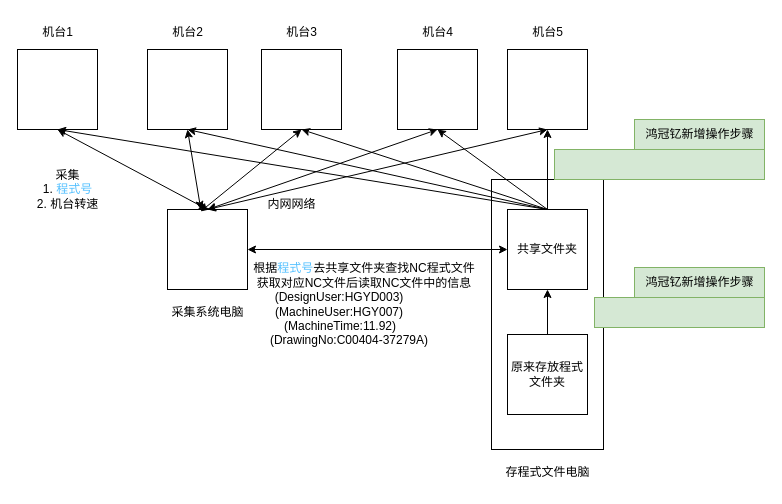
The diagram is 782 pixels wide and 504 high, and some of its shapes have lost their labels. Here are the shapes that lost their labels. From the top down, the centre of each, then its label:
At point 659,164: "机台FTP从共享文件夹获取NC文件".
At point 679,312: "拷贝程式文件到共享文件夹".
